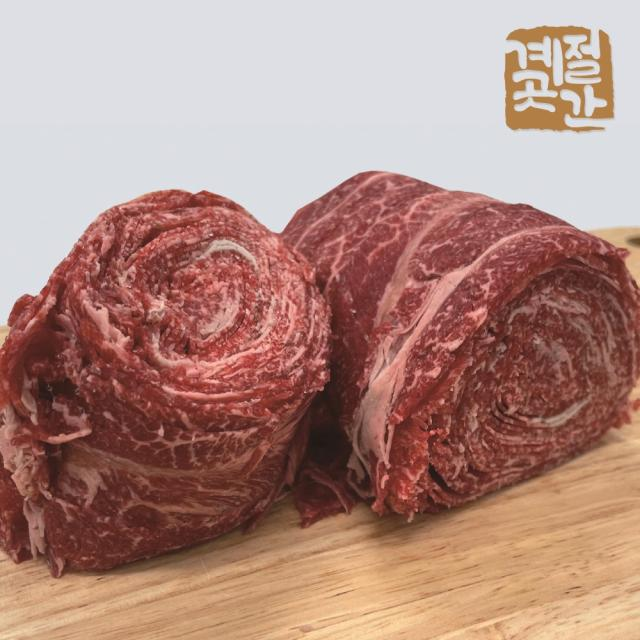beef: (56, 262, 256, 453), (400, 256, 591, 442)
